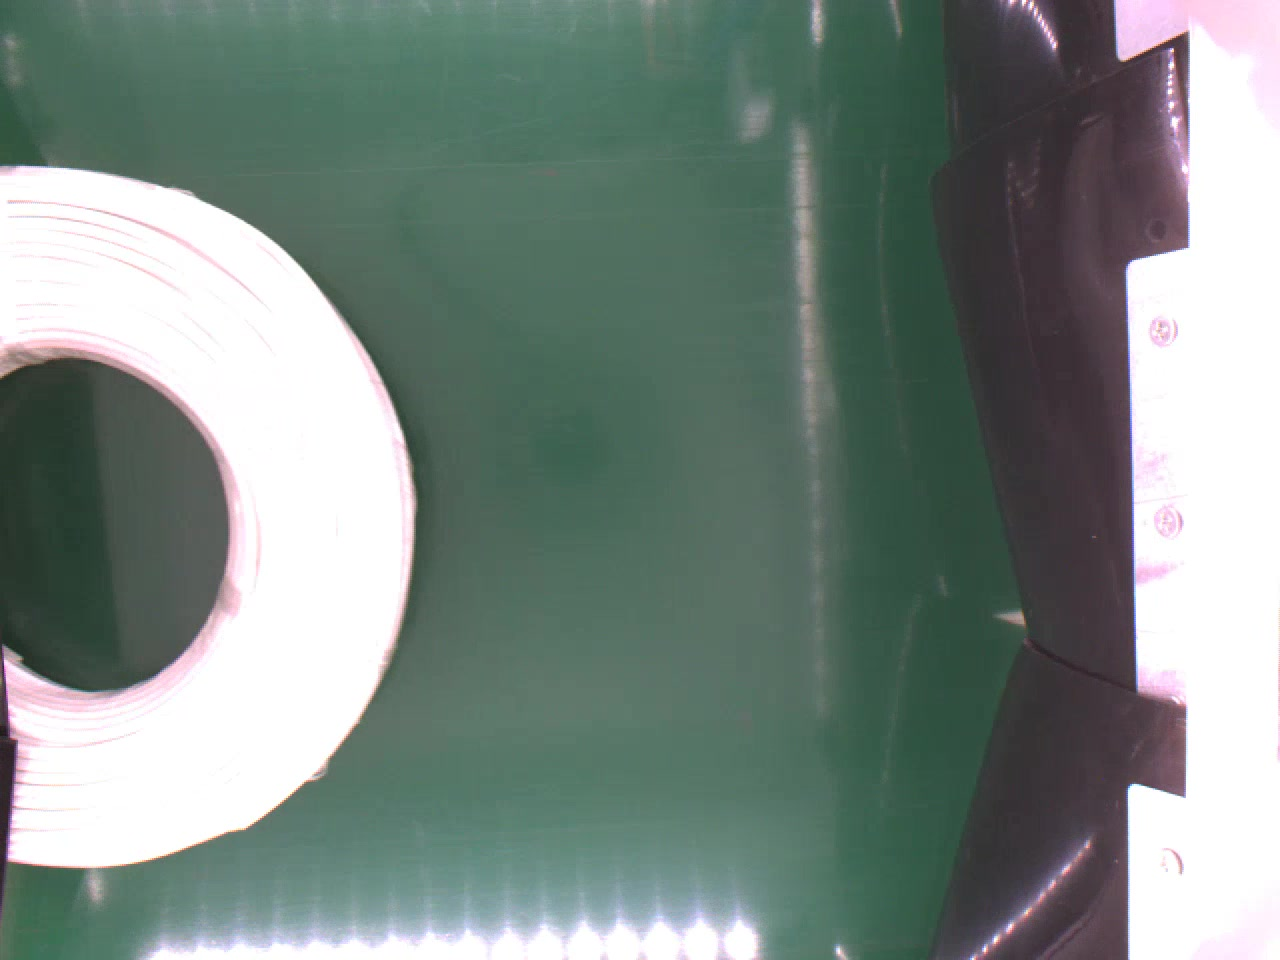white: (0, 161, 419, 867)
